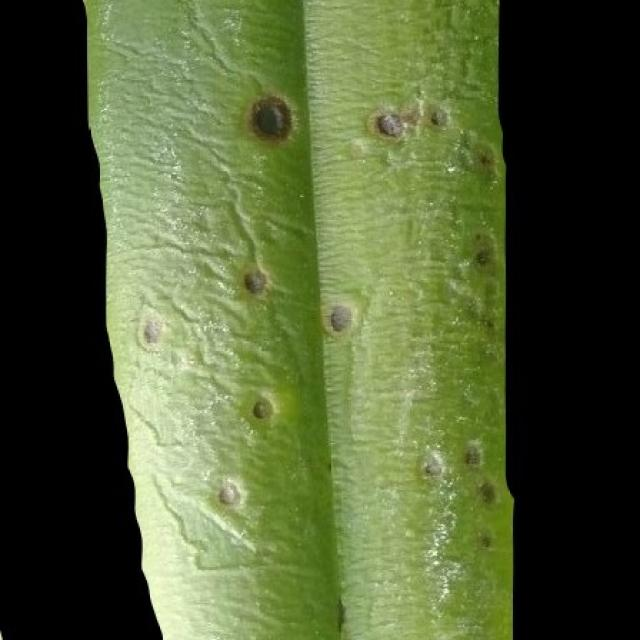mite: (243, 91, 453, 147), (211, 390, 276, 510), (230, 80, 309, 157), (364, 101, 410, 146), (133, 309, 169, 354), (210, 473, 246, 513), (243, 389, 277, 430), (470, 231, 496, 269), (324, 301, 353, 334), (373, 110, 403, 139), (137, 316, 161, 349), (419, 451, 444, 480), (216, 480, 240, 507), (473, 146, 496, 173), (249, 396, 273, 421), (476, 479, 496, 506), (461, 443, 481, 469), (427, 106, 447, 129), (474, 529, 494, 550), (473, 246, 491, 267)
sunburn: (244, 93, 296, 147)
